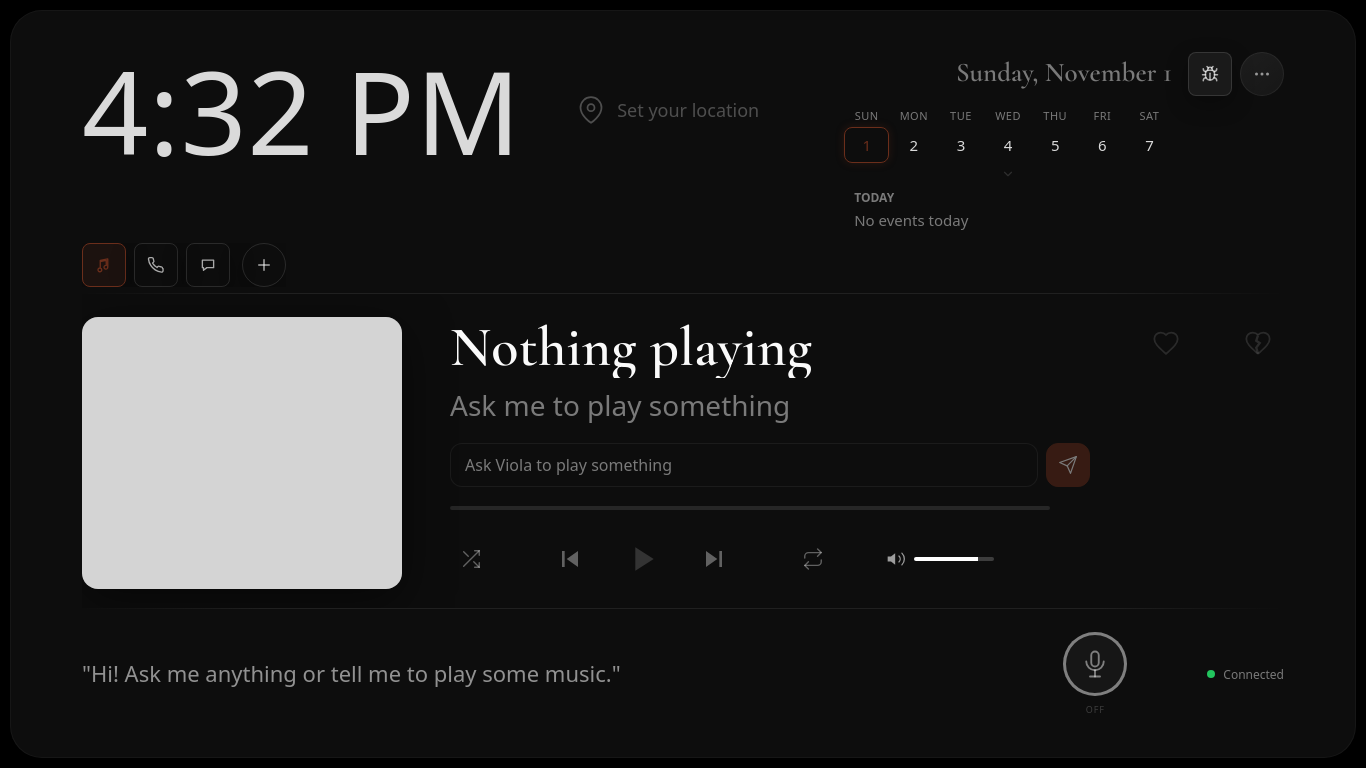
Test case: transcript render chain: local socket -> PhoneCallPanel (Refs #1529) › ignores non-transcript and empty frames on the same socket
This screenshot has width=1366, height=768.
Step 1. Click the button with test id "stage-pill-phone" → (156, 265), box [134,243,178,287]
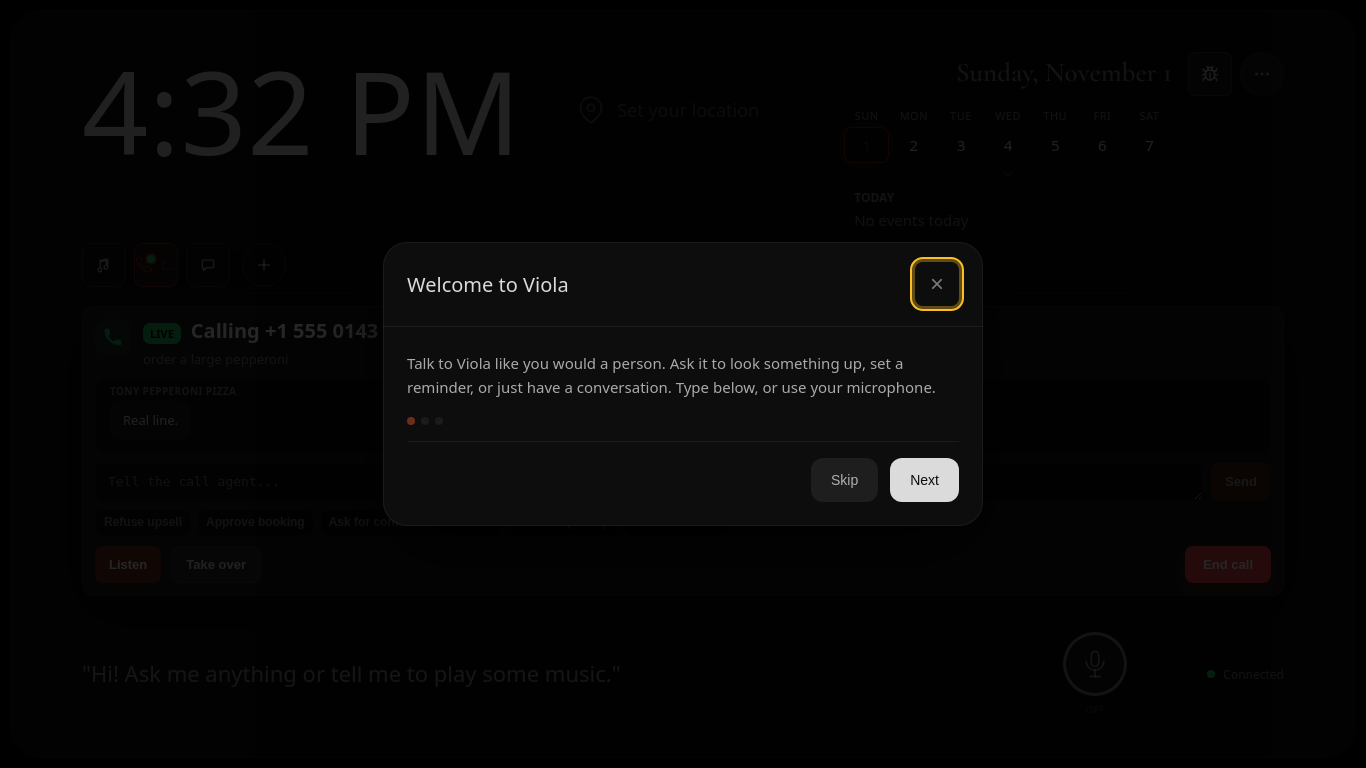
Expected: the element with test id "phone-call-panel" is shown, [82,306,1284,596]
Expected: the text "Live transcript" is shown, [110,384,236,440]
